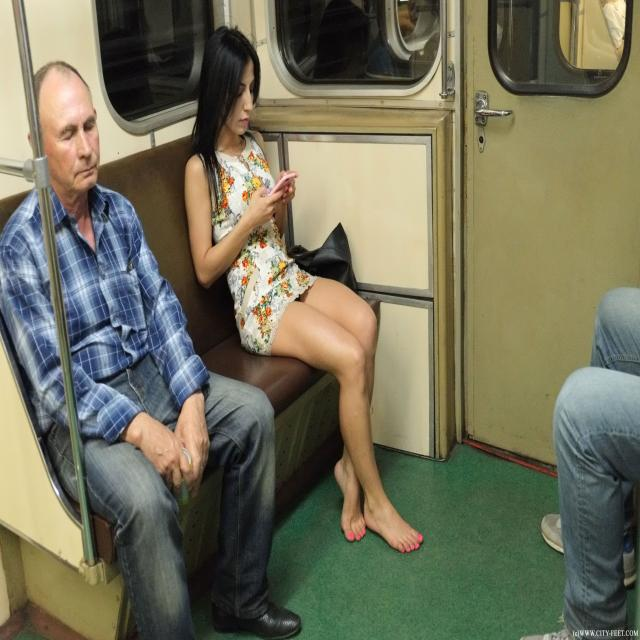Barefoots: (364, 500, 423, 552), (334, 458, 366, 542)
